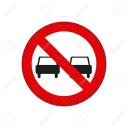NoUltrapassar: (17, 20, 108, 109)
